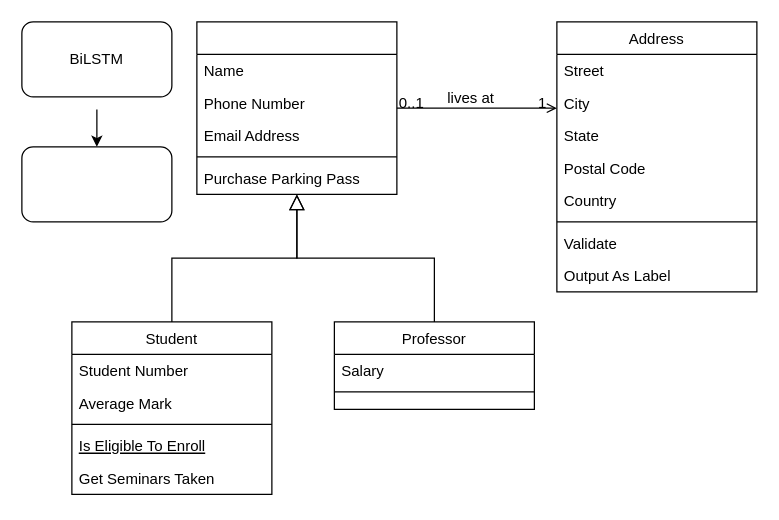
The diagram is 779 pixels wide and 520 high, and some of its shapes have lost their labels. Each missing label, with the box of its shape:
Person: (196, 21, 397, 194)
Relation-aware Self-attention: (21, 146, 172, 222)
